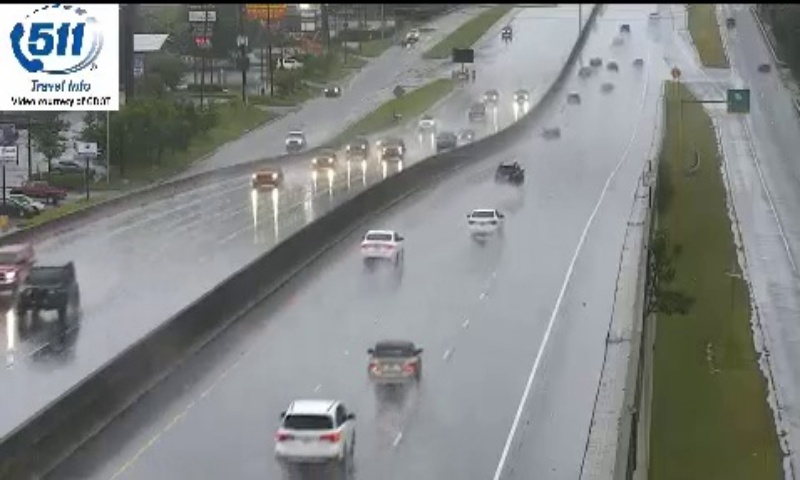car: (276, 400, 354, 460), (368, 341, 421, 385), (359, 230, 403, 264), (466, 208, 502, 239), (495, 160, 523, 186)
